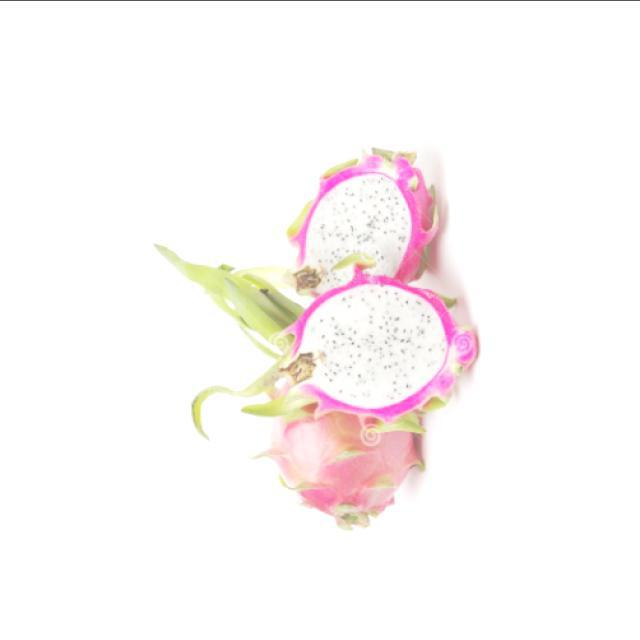trang: (247, 146, 439, 302), (272, 281, 474, 414), (242, 404, 444, 535)
